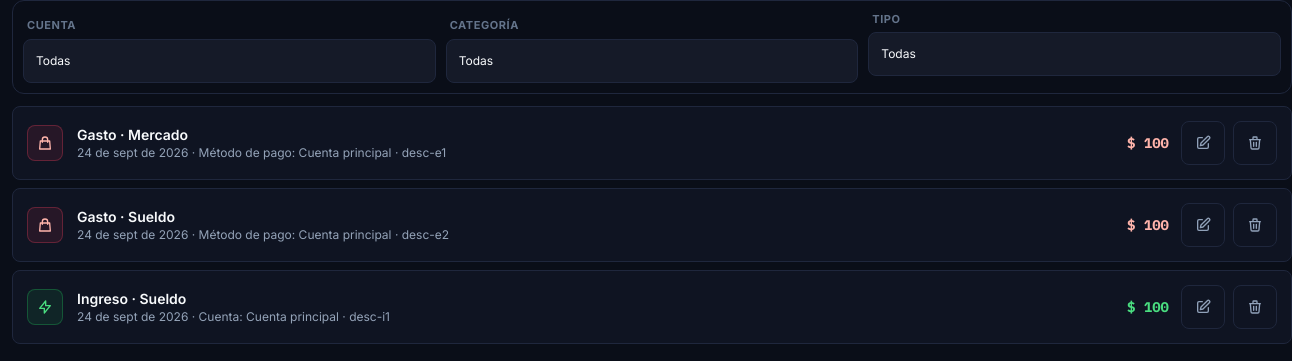
Test: MovementHistory › composes direction and category filters
The width and height of the screenshot is (1292, 361).
Expected: the text "desc-e1" is shown, top-left (392, 145), bottom-right (446, 160)
Select "Gasto" in the dropdown named "Tipo" at point(1075, 54), box top-left (868, 32), bottom-right (1281, 76)
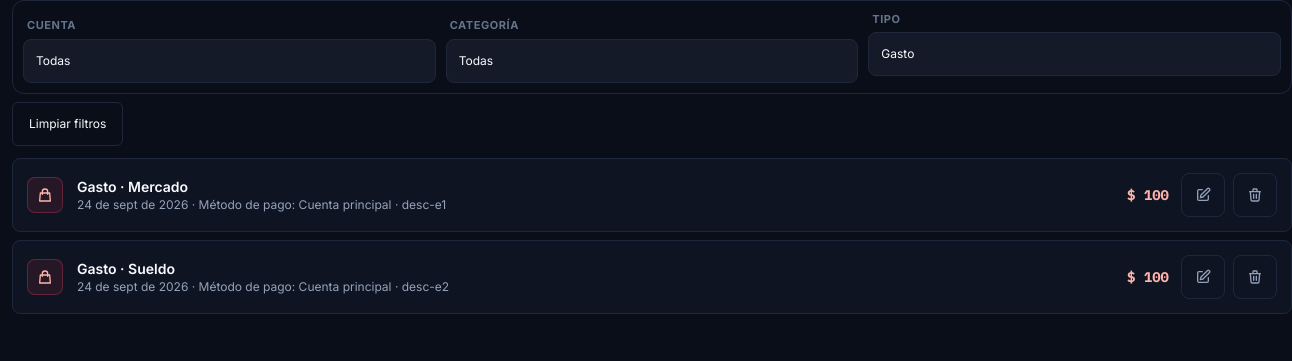
Select "Sueldo" in the dropdown labelled "Categoría" at point(652, 61), box top-left (446, 39), bottom-right (858, 83)
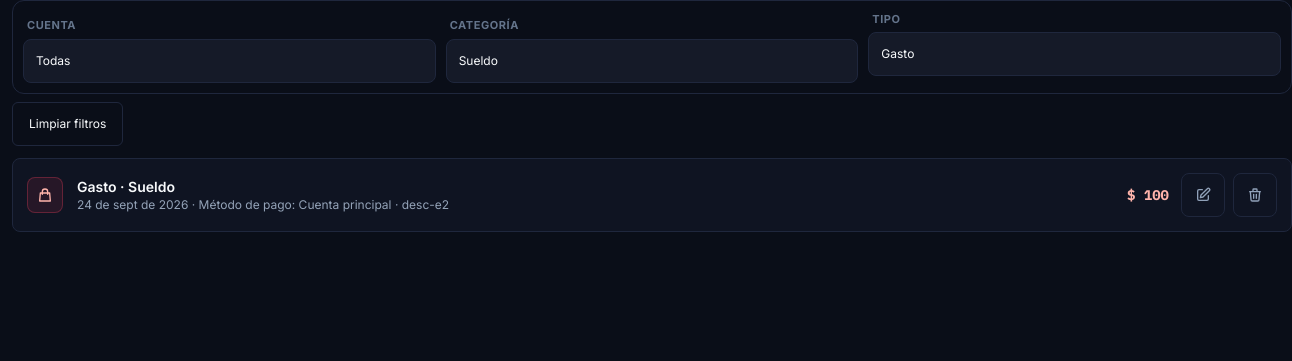
Expected: the text "desc-e2" is shown, top-left (392, 197), bottom-right (449, 212)
Expected: the text "desc-e1" is gone
